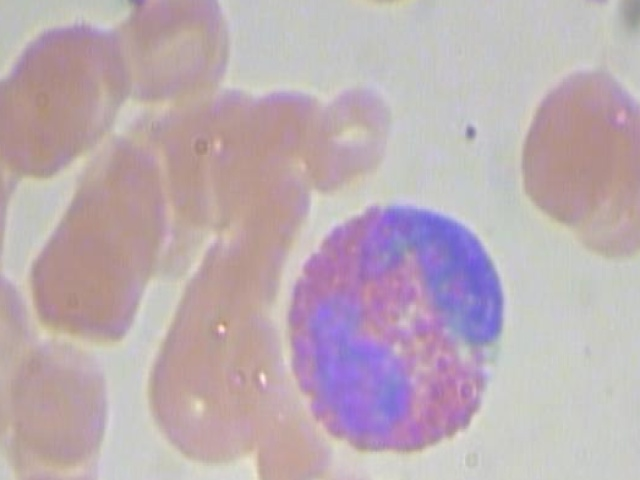Platelets: (118, 0, 161, 8)
RBC: (138, 305, 291, 470), (511, 67, 640, 227), (14, 336, 123, 471), (0, 42, 95, 177), (308, 77, 392, 193), (0, 466, 130, 480), (329, 0, 437, 16)
WBC: (273, 184, 524, 470)
